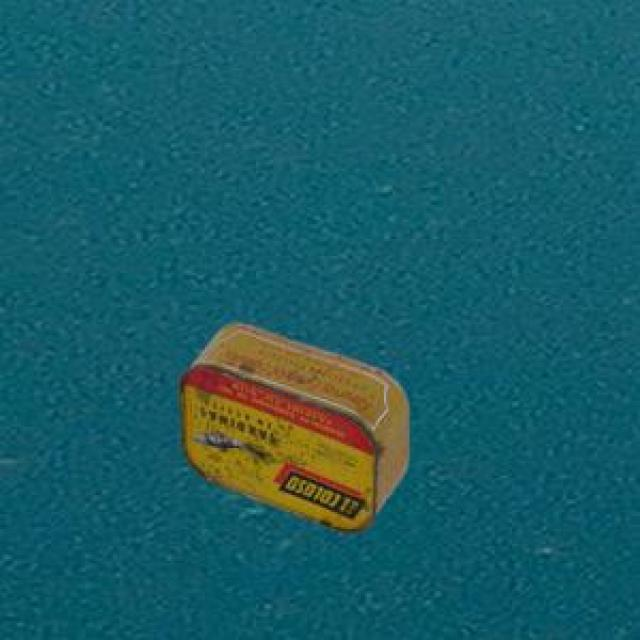logam: (176, 321, 406, 530)
